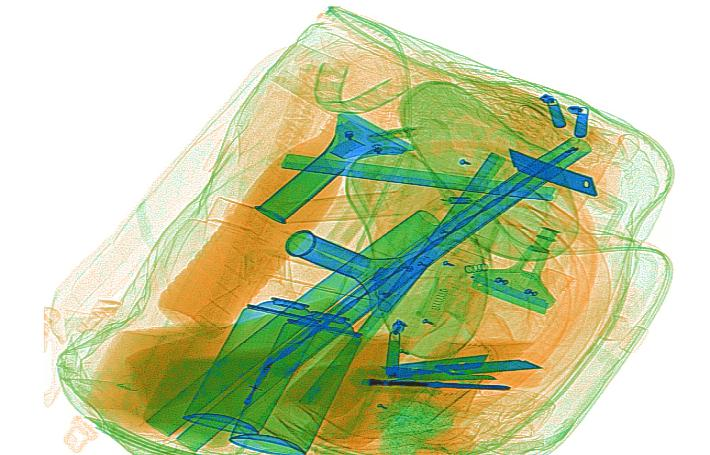knife: (506, 147, 599, 198), (469, 272, 549, 316), (385, 352, 489, 379), (433, 357, 541, 376)
pressure: (182, 273, 338, 436), (227, 285, 374, 452)
